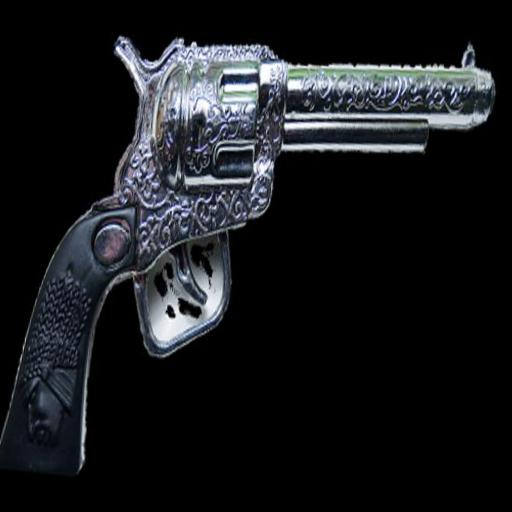Handgun: (0, 0, 501, 512)
